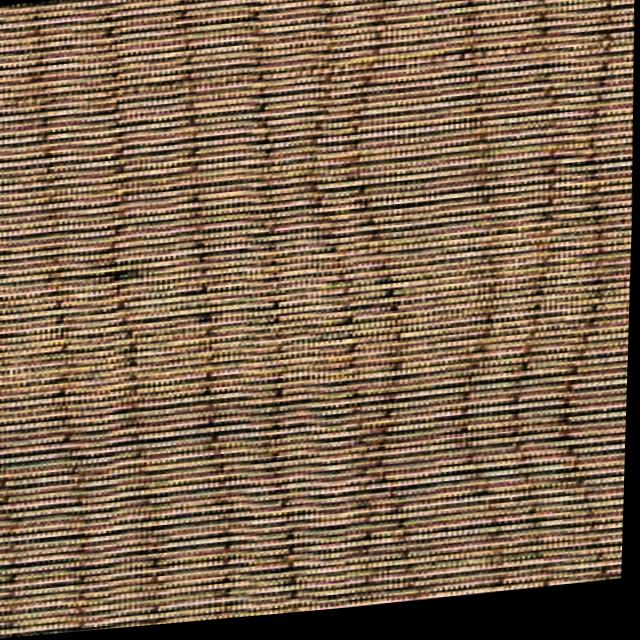Stitch: (331, 339, 446, 613)
